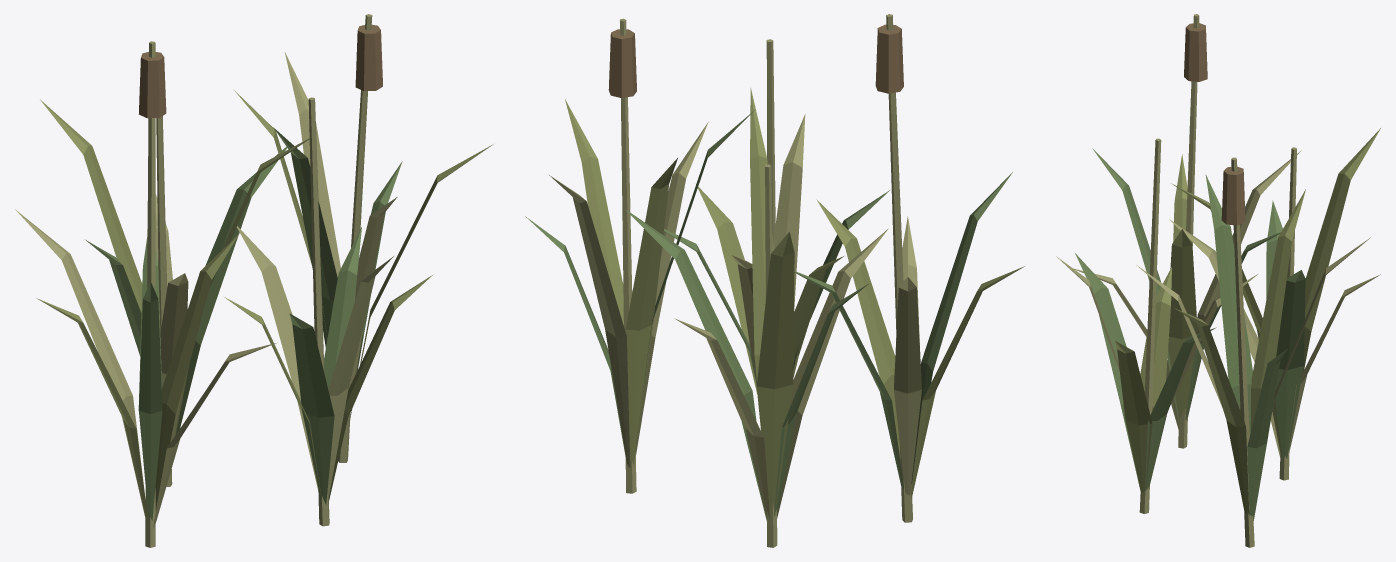
The model's file is reeds.glb.
The picture shows the model from 3 angles, left to right: view 1: azimuth 30°, elevation 25°; view 2: azimuth 150°, elevation 25°; view 3: azimuth 270°, elevation 25°; orthographic projection. The views are drawn at different scales.
Visible parts, largest first — view 1: reeds_land_reed_light, reeds_land_reed_dark, reeds_land_reed, reeds_land_seedhead; view 2: reeds_land_reed_light, reeds_land_reed, reeds_land_reed_dark, reeds_land_seedhead; view 3: reeds_land_reed, reeds_land_reed_dark, reeds_land_reed_light, reeds_land_seedhead.
Boxes of the visible parts, box(x1,y1,x2,y2) form: reeds_land_reed_light: box(15, 14, 397, 547); reeds_land_reed_dark: box(85, 127, 402, 520); reeds_land_reed: box(36, 89, 493, 524); reeds_land_seedhead: box(138, 24, 382, 118); reeds_land_reed_light: box(549, 14, 921, 547); reeds_land_reed: box(565, 87, 1024, 515); reeds_land_reed_dark: box(525, 110, 1012, 520); reeds_land_seedhead: box(608, 24, 903, 98); reeds_land_reed: box(1115, 128, 1380, 515); reeds_land_reed_dark: box(1075, 148, 1305, 520); reeds_land_reed_light: box(1056, 14, 1380, 547); reeds_land_seedhead: box(1184, 23, 1245, 225).
Bounding box in the file's own units: 1.22 × 1.27 × 0.8635.
